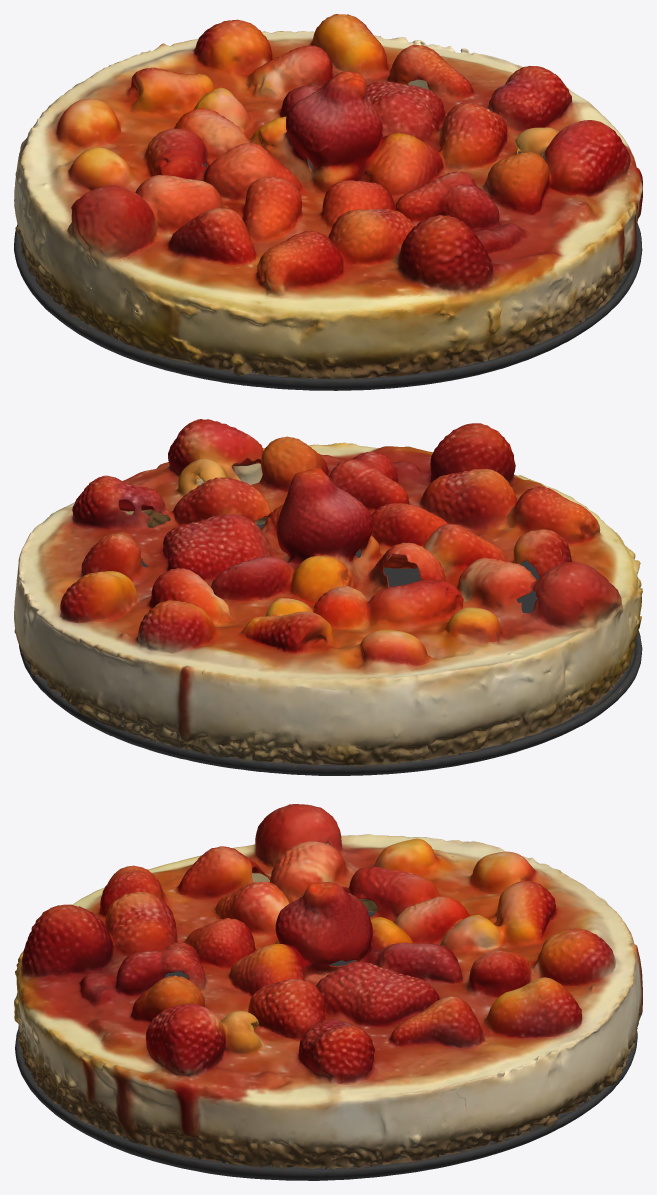
File: cheesecake-raw.glb
3 renders of one model, top to bottom at view 1: azimuth 30°, elevation 25°; view 2: azimuth 150°, elevation 25°; view 3: azimuth 270°, elevation 25°, orthographic.
Parts seen in each view (by area): view 1: world; view 2: world; view 3: world.
Part boxes in pixels (x1,y1,x2,y2): world: (14, 14, 642, 390); world: (14, 419, 642, 775); world: (14, 804, 642, 1180).
Bounding box in the file's own units: 1 × 0.3263 × 1.
Materials: 1 (1 with a texture image).
